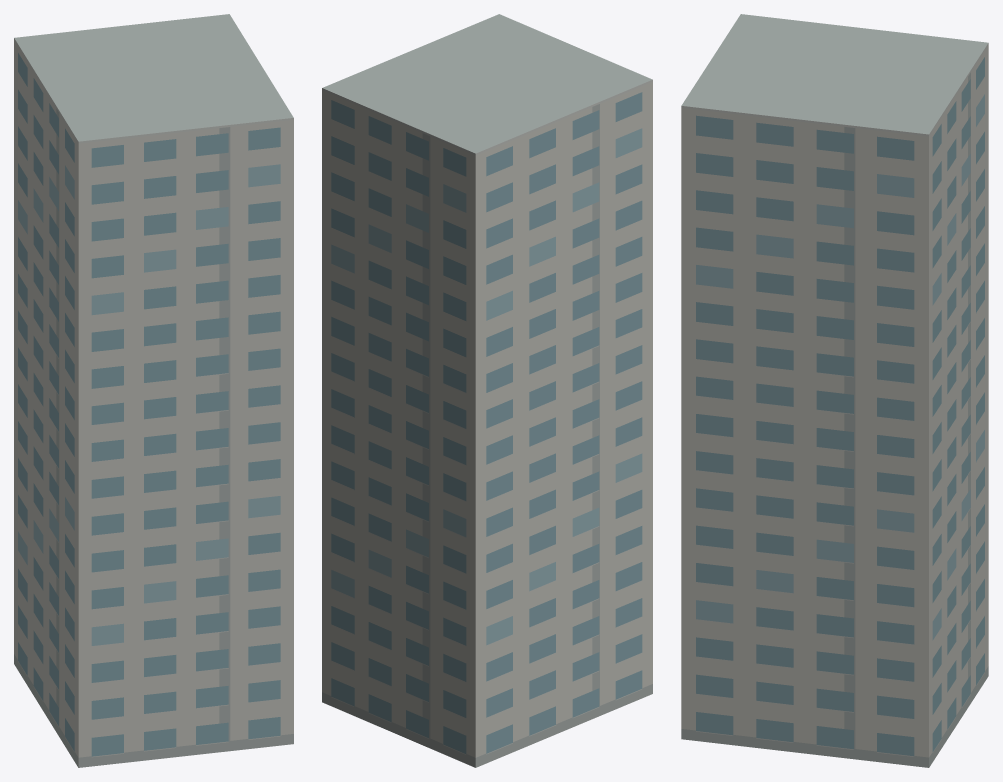
Rendered from residential-49c88992-b666-4188-af9c-4377d7ff68a8.glb.
3 renders of one model, left to right at view 1: azimuth 30°, elevation 25°; view 2: azimuth 150°, elevation 25°; view 3: azimuth 270°, elevation 25°, orthographic. The views are drawn at different scales.
Visible parts, largest first — view 1: residential-49c88992-b666-4188-af9c-4377d7ff68a8.tmp; view 2: residential-49c88992-b666-4188-af9c-4377d7ff68a8.tmp; view 3: residential-49c88992-b666-4188-af9c-4377d7ff68a8.tmp.
Boxes of the visible parts, x1,y1,x2,y2 form: residential-49c88992-b666-4188-af9c-4377d7ff68a8.tmp: (14, 14, 293, 767); residential-49c88992-b666-4188-af9c-4377d7ff68a8.tmp: (322, 14, 652, 767); residential-49c88992-b666-4188-af9c-4377d7ff68a8.tmp: (681, 14, 988, 767).
Bounding box in the file's own units: 29.79 × 73 × 32.1.
